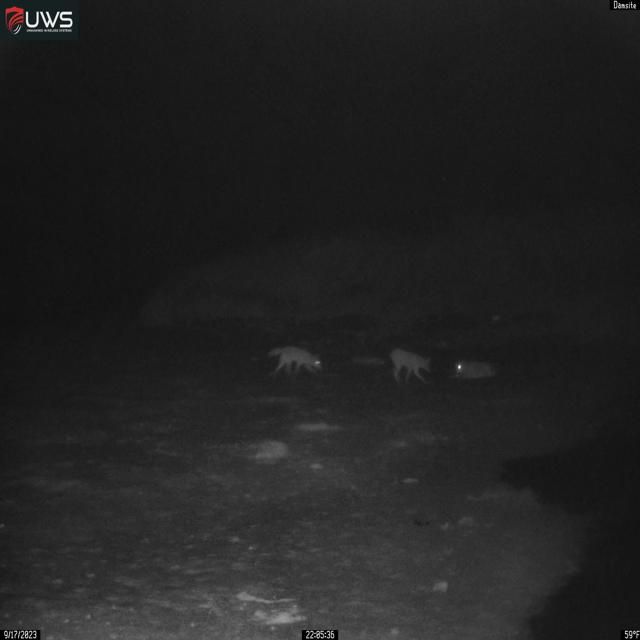coyote: (389, 348, 432, 385)
